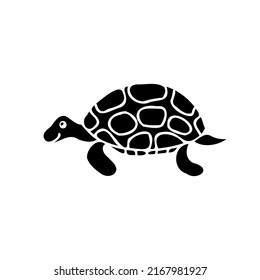animal: (25, 77, 234, 188)
